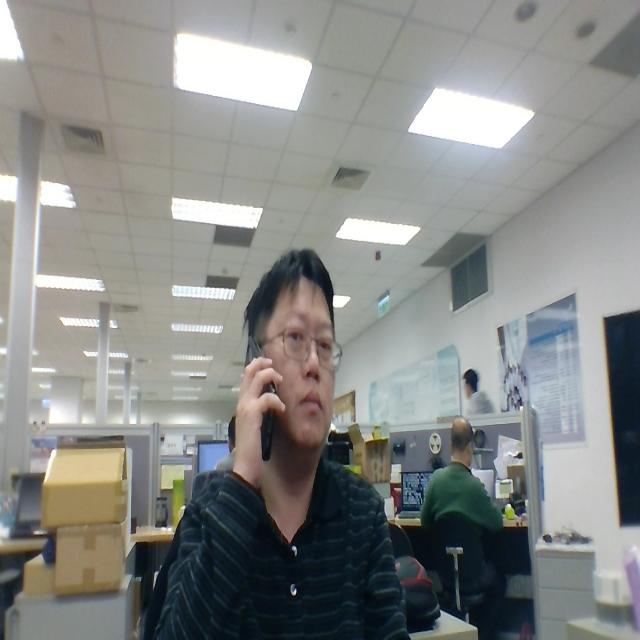phone: (224, 324, 286, 476)
